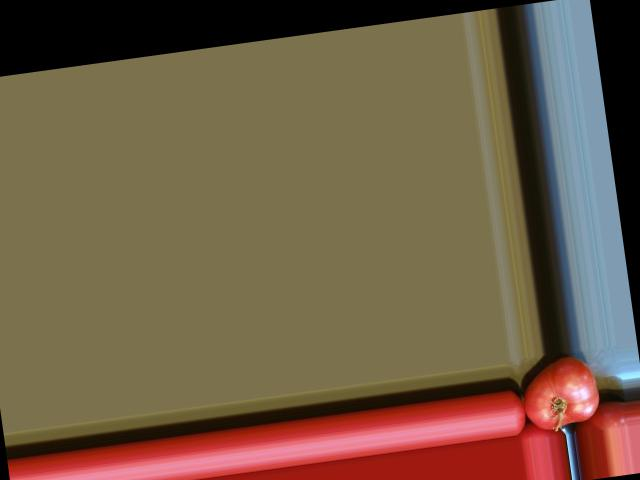tomato: (518, 353, 602, 432)
